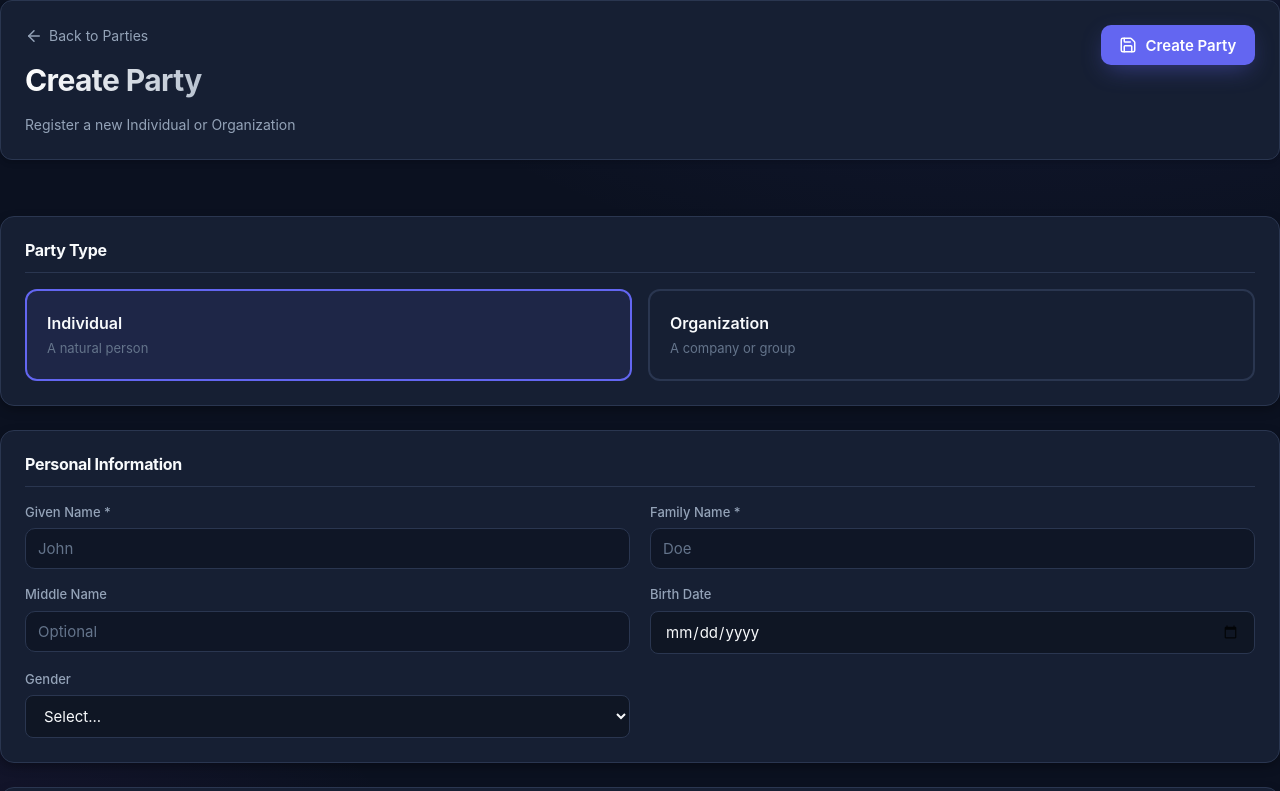
PartyFormPage › toggles to Organization
Click the radio button labelled "Organization A company or group" at (720, 323), box [648,289,1255,381]
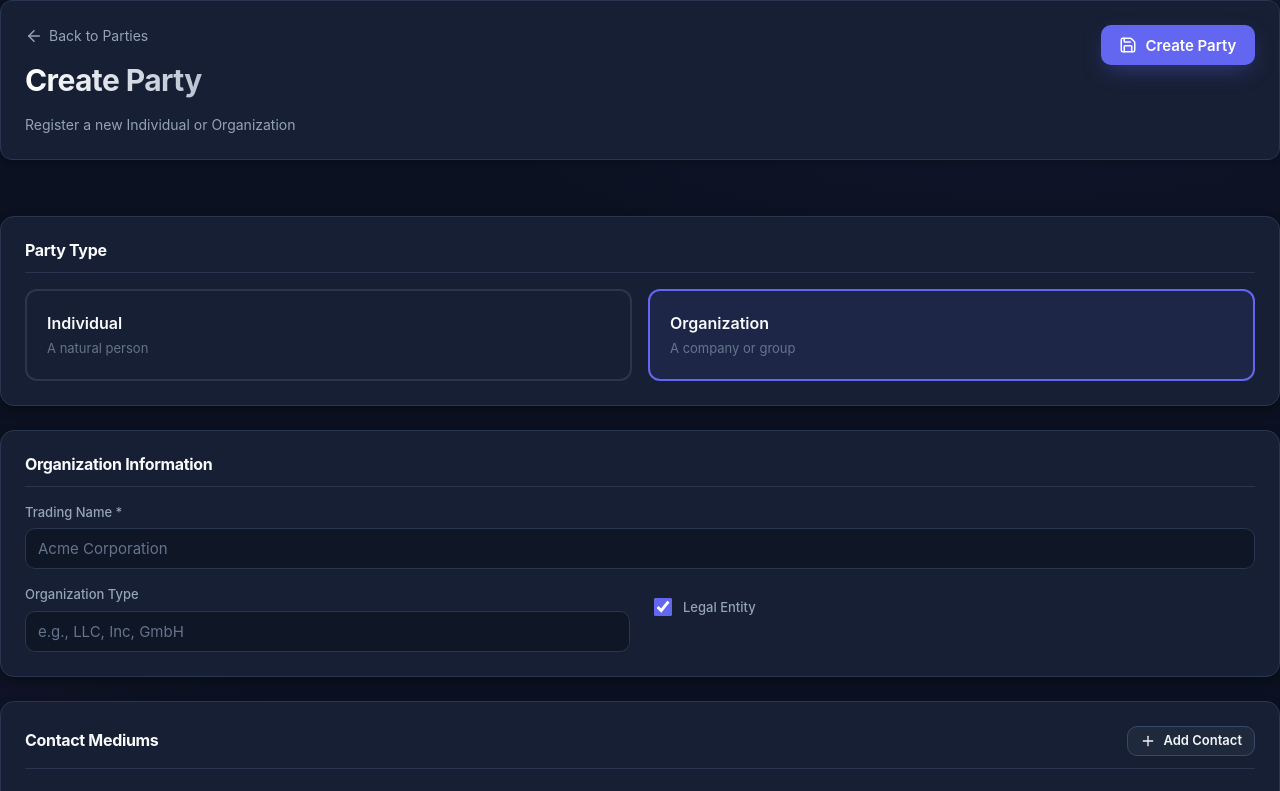
expect the field labelled "Trading Name *" is shown: met, box [25,528,1255,569]
expect the label labelled "Given Name *" is gone: met
